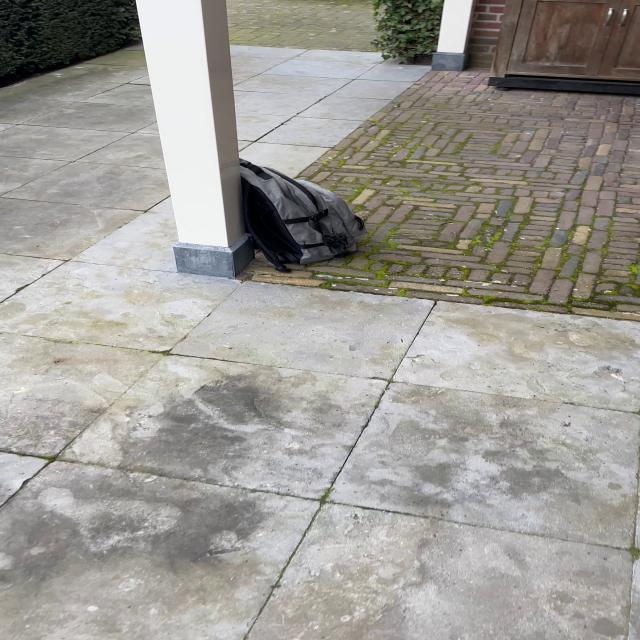backpack: (226, 157, 370, 275)
